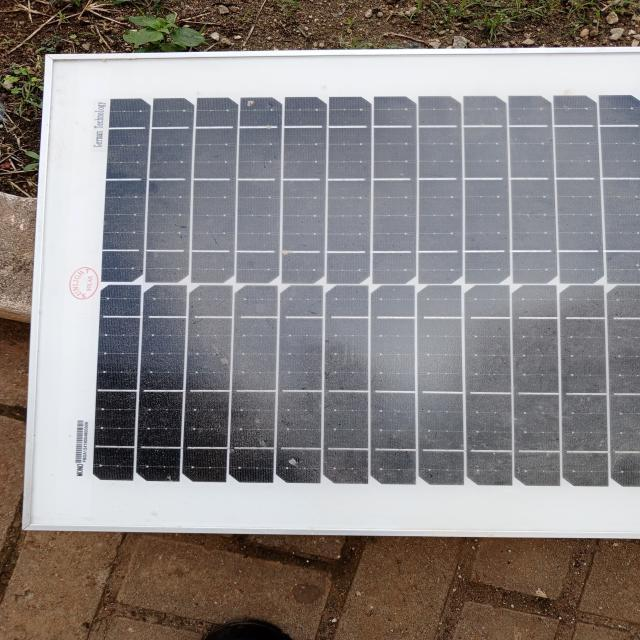Anomaly Solar Panel: (61, 66, 640, 500)
Surface Contaminant: (100, 80, 639, 489)
